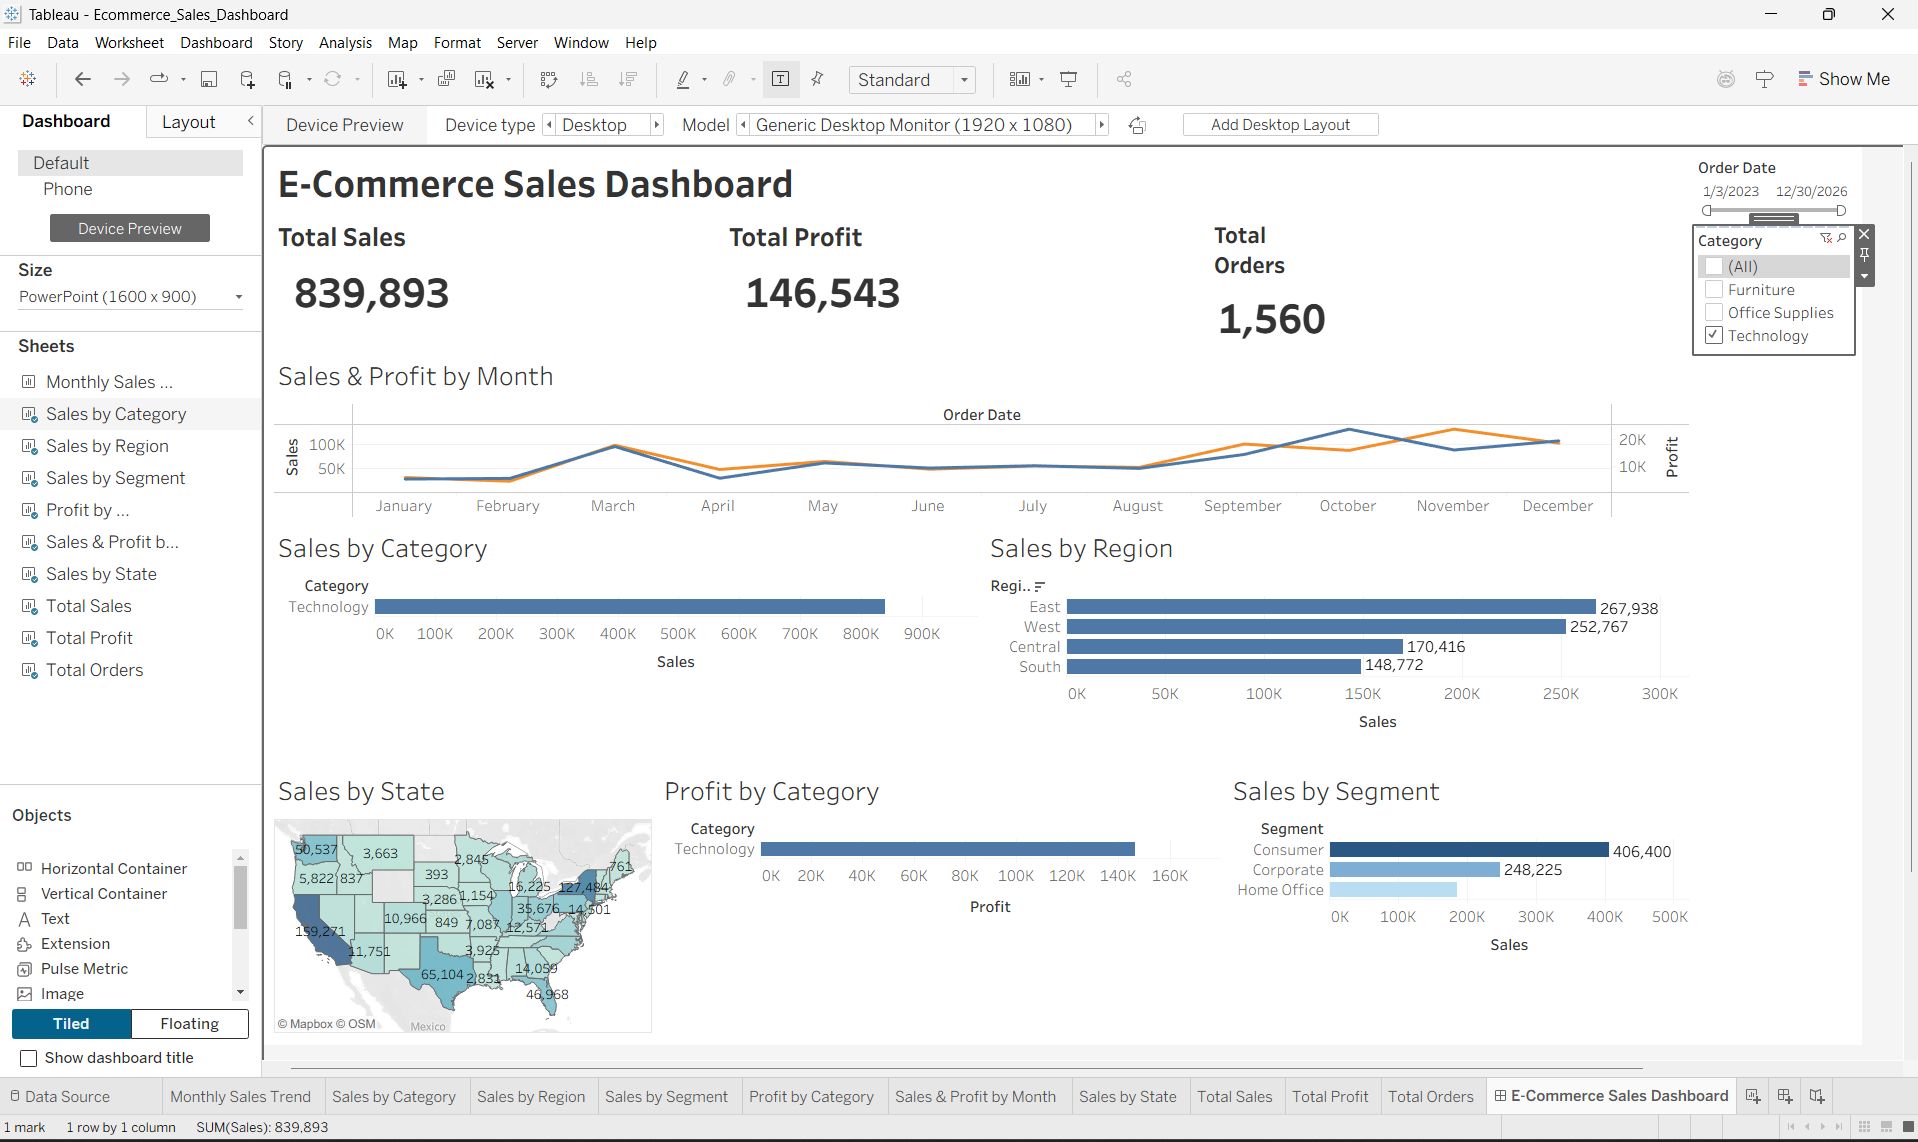

This screenshot's page, from the dashboard's own definition file:
{"tool":"tableau","page":{"name":"E-Commerce Sales Dashboard","canvas":[1600,900],"ordinal":0},"visuals":[{"type":"title","box":[8,8,1424,58]},{"type":"filter","title":"Sales by Category","param":"[federated.0btax7m03kxdly19iwi6n0j8b8nd].[none:Order Date:qk]","box":[1432,8,160,73]},{"type":"worksheet","title":"Total Sales","mark":"Automatic","box":[8,66,451.4,139]},{"type":"worksheet","title":"Total Profit","mark":"Automatic","box":[459.4,66,485.1,139]},{"type":"worksheet","title":"Total Orders","mark":"Automatic","box":[944.5,66,487.5,139]},{"type":"filter","title":"Sales by Category","param":"[federated.0btax7m03kxdly19iwi6n0j8b8nd].[none:Category:nk]","box":[1432,81,160,128]},{"type":"worksheet","title":"Sales & Profit by Month","mark":"Line","rows":["Sales","Profit"],"cols":["Order Date"],"box":[8,205,1424,172]},{"type":"worksheet","title":"Sales by Category","mark":"Bar","rows":["Category"],"cols":["Sales"],"box":[8,377,712,243]},{"type":"worksheet","title":"Sales by Region","mark":"Bar","rows":["Region"],"cols":["Sales"],"box":[720,377,712,243]},{"type":"worksheet","title":"Sales by State","mark":"Automatic","box":[8,620,386.1,272]},{"type":"worksheet","title":"Profit by Category","mark":"Bar","rows":["Category"],"cols":["Profit"],"box":[394.1,620,568.6,272]},{"type":"worksheet","title":"Sales by Segment","mark":"Bar","rows":["Segment"],"cols":["Sales"],"box":[962.7,620,469.3,272]}]}

Visuals, with their boxes on the page's 1600x900 design canvas (x1, y1, x2, y2). These are canvas units, not pixel positions in the 1918x1142 screenshot, which may show the page scaled, cropped or inside an application window:
title: x1=8 y1=8 x2=1432 y2=66
"Sales by Category" filter: x1=1432 y1=8 x2=1592 y2=81
"Total Sales" worksheet: x1=8 y1=66 x2=459 y2=205
"Total Profit" worksheet: x1=459 y1=66 x2=944 y2=205
"Total Orders" worksheet: x1=944 y1=66 x2=1432 y2=205
"Sales by Category" filter: x1=1432 y1=81 x2=1592 y2=209
"Sales & Profit by Month" worksheet (Line marks): x1=8 y1=205 x2=1432 y2=377
"Sales by Category" worksheet (Bar marks): x1=8 y1=377 x2=720 y2=620
"Sales by Region" worksheet (Bar marks): x1=720 y1=377 x2=1432 y2=620
"Sales by State" worksheet: x1=8 y1=620 x2=394 y2=892
"Profit by Category" worksheet (Bar marks): x1=394 y1=620 x2=963 y2=892
"Sales by Segment" worksheet (Bar marks): x1=963 y1=620 x2=1432 y2=892
